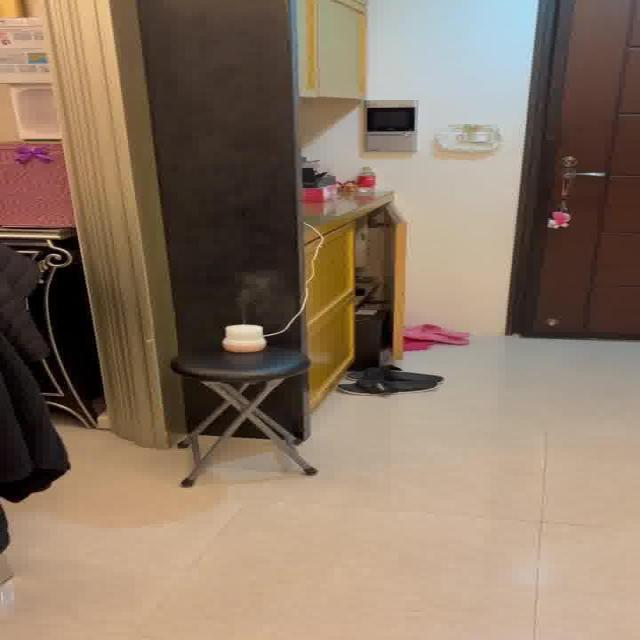fire: (220, 266, 285, 318)
